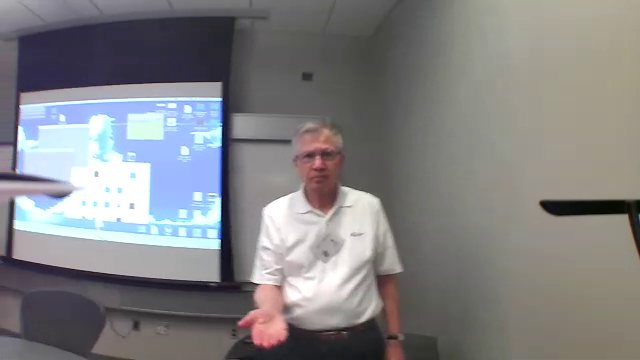land: (231, 302, 303, 348)
